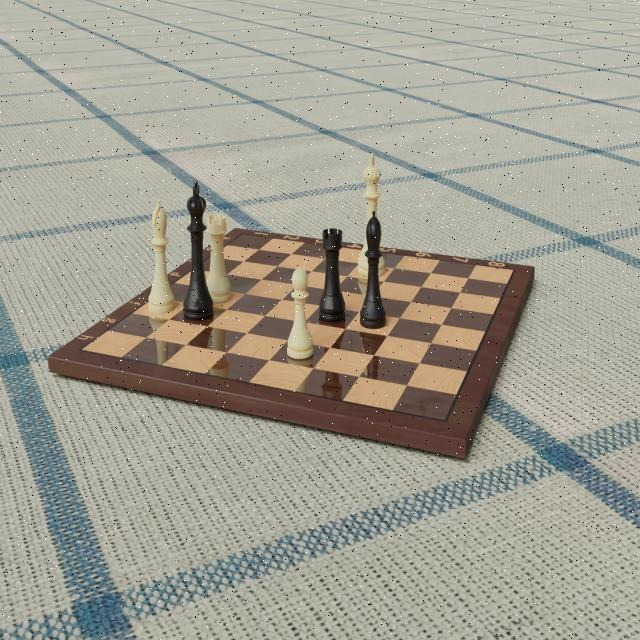black-bishop: (359, 209, 389, 329)
black-king: (181, 178, 215, 322)
black-rook: (317, 225, 347, 323)
white-bishop: (147, 195, 176, 315)
white-king: (355, 152, 388, 280)
white-pawn: (285, 266, 315, 361)
white-rook: (203, 211, 233, 305)
